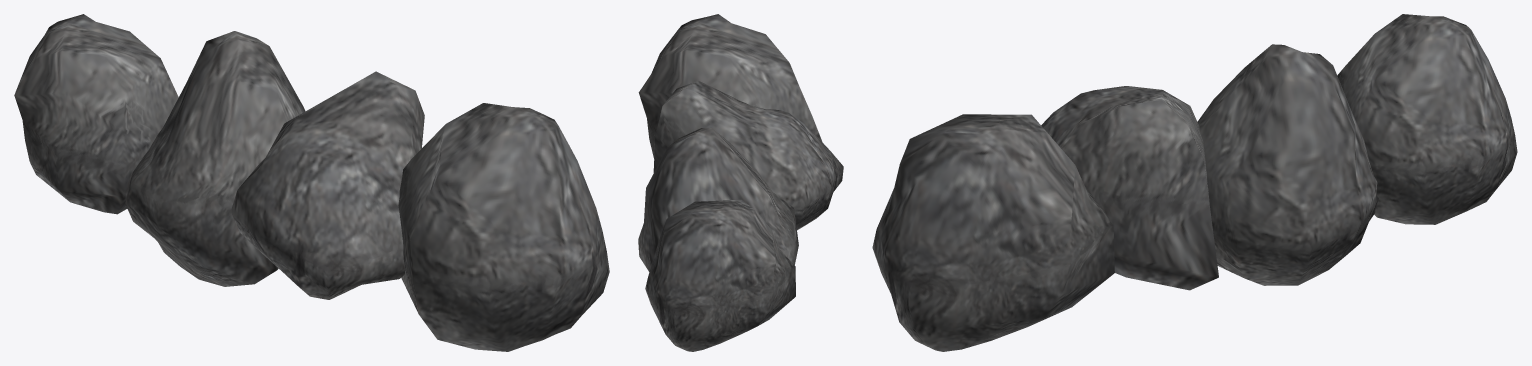
The model's file is Blocker_Rocks_02.dae.
The picture shows the model from 3 angles, left to right: view 1: azimuth 30°, elevation 25°; view 2: azimuth 150°, elevation 25°; view 3: azimuth 270°, elevation 25°; orthographic projection. The views are drawn at different scales.
Visible parts, largest first — view 1: Breakable_Wall1; view 2: Breakable_Wall1; view 3: Breakable_Wall1.
Boxes of the visible parts, box(x1,y1,x2,y2) form: Breakable_Wall1: box(14, 14, 609, 351); Breakable_Wall1: box(638, 14, 843, 351); Breakable_Wall1: box(872, 14, 1517, 351).
Bounding box in the file's own units: 781 × 500 × 1180.
